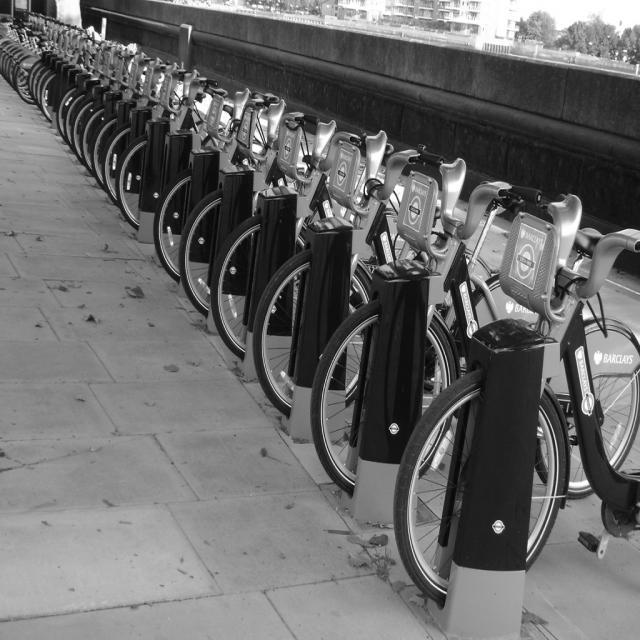car: (310, 155, 640, 496), (392, 190, 640, 604), (251, 127, 525, 421), (208, 118, 377, 363), (0, 2, 158, 206), (178, 84, 312, 318), (150, 78, 286, 282), (113, 62, 196, 235)
